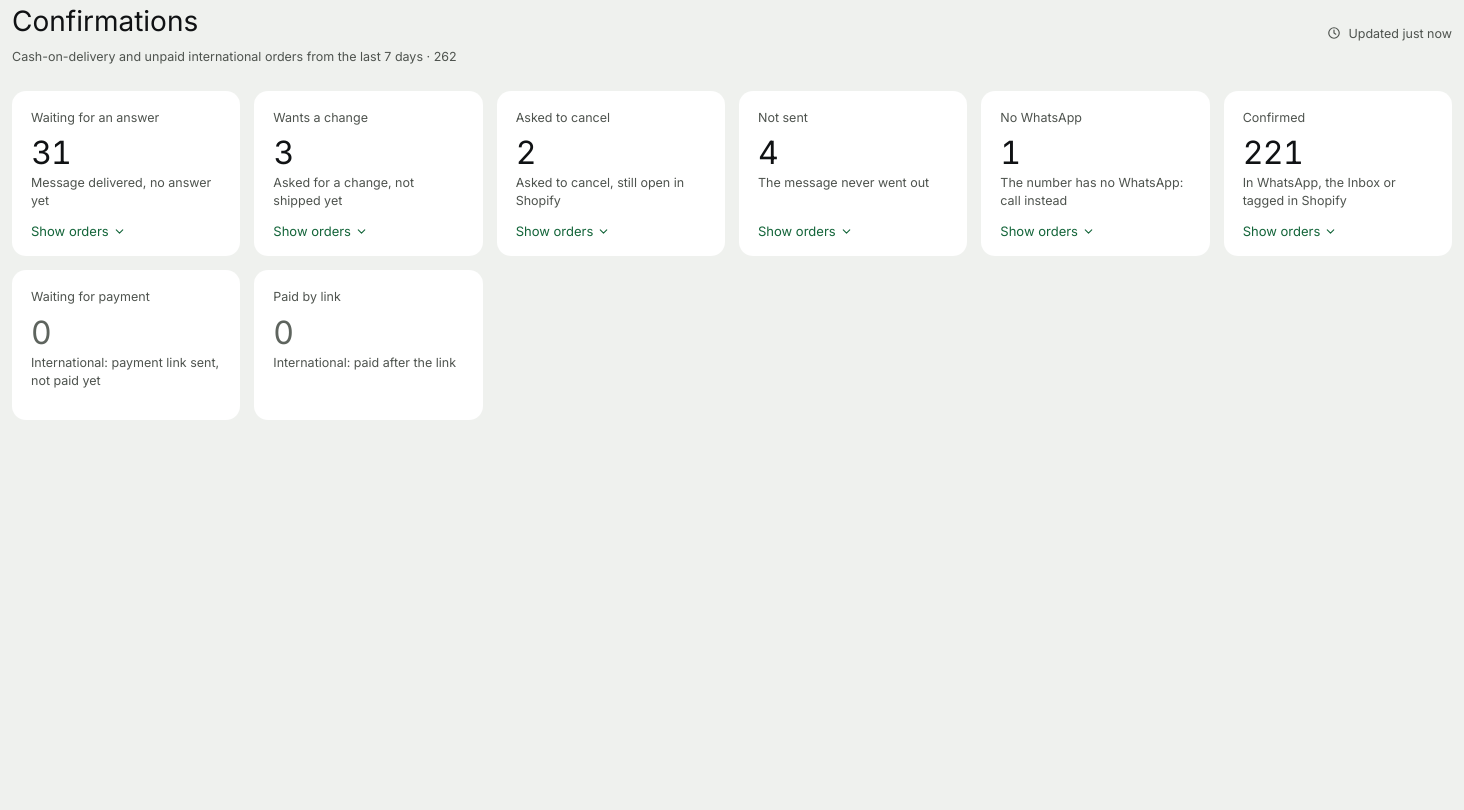
Inbox → Confirmations (ADR 0059) › sends an order again and says it is queued
The width and height of the screenshot is (1464, 810).
Click the button "Not sent 4 The message never went out Show orders".
click(853, 174)  # box [739,91,967,256]
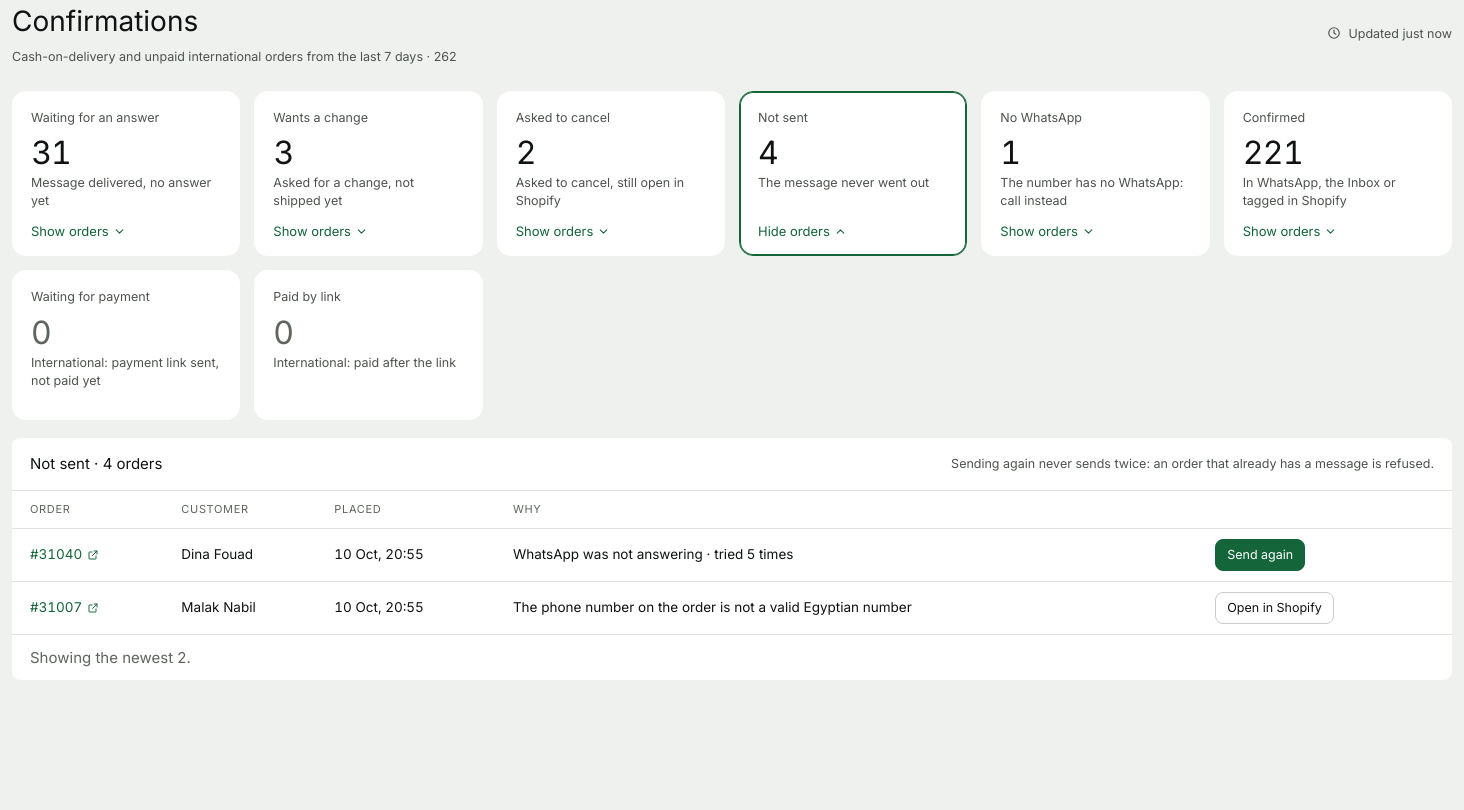
Click the button "Send again".
click(1260, 555)  # box [1215,539,1305,571]
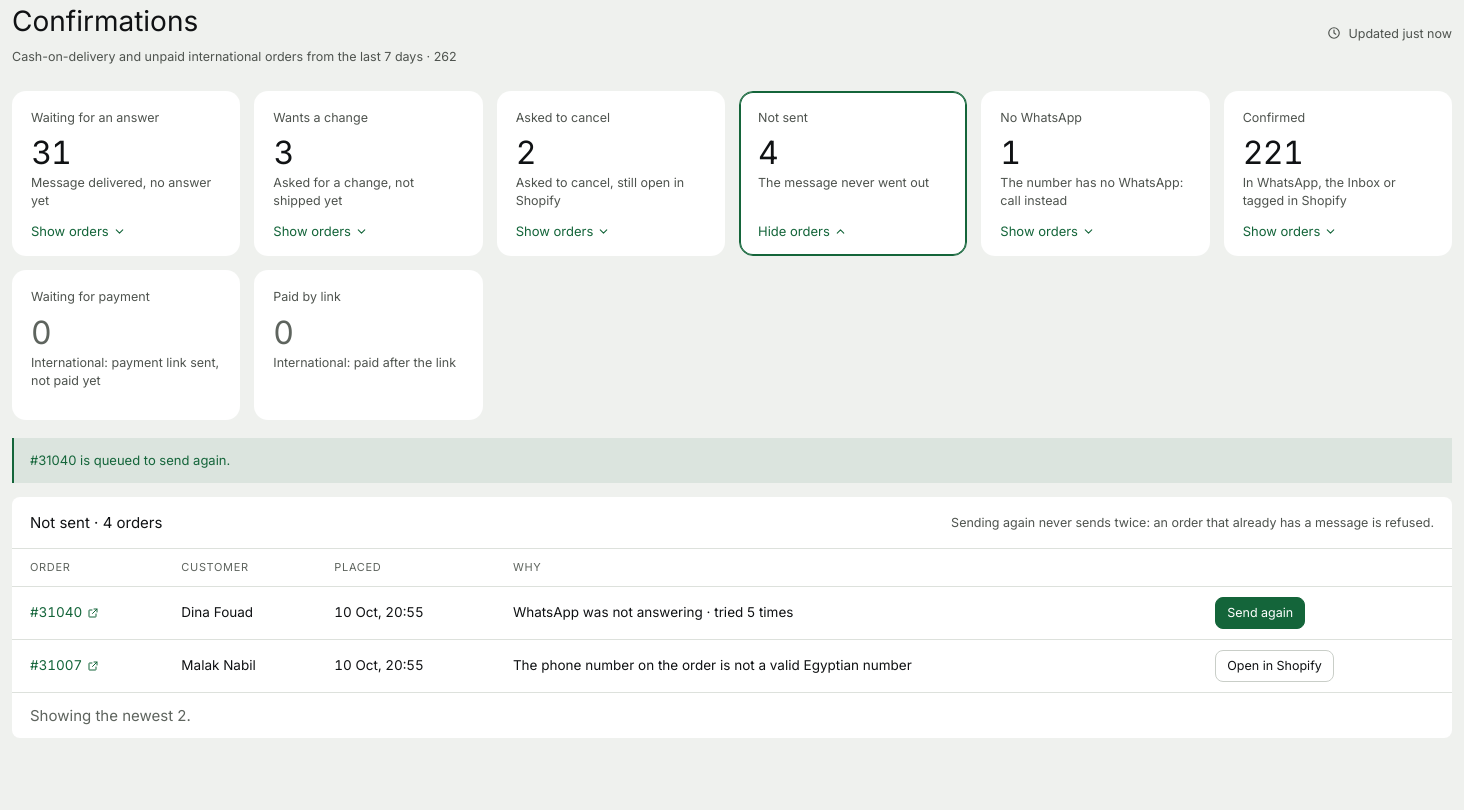
Expected: the message reads "#31040 is queued to send again.", [30,452,230,468]
